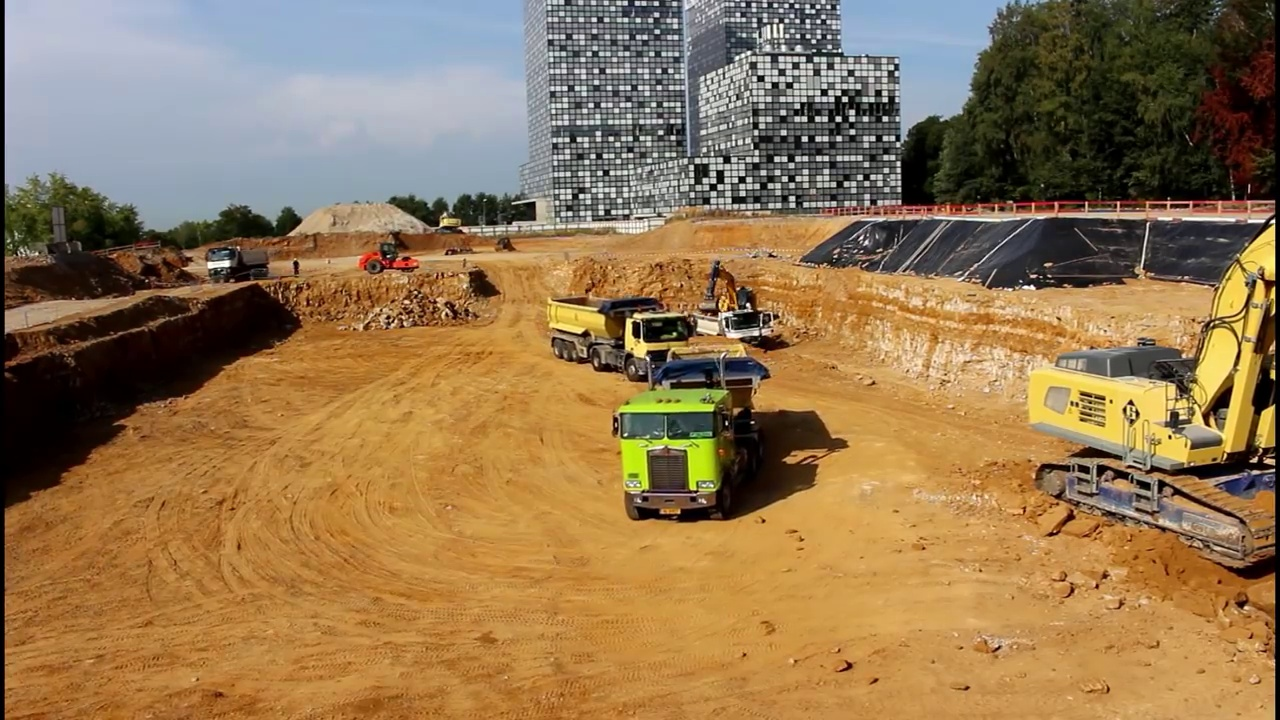compactor: (357, 240, 423, 275)
excavator: (1023, 209, 1280, 579), (698, 257, 764, 331), (434, 207, 467, 236)
truck: (609, 334, 777, 526), (544, 289, 699, 386), (691, 302, 781, 350), (203, 244, 272, 285)
worker: (291, 254, 305, 282)
